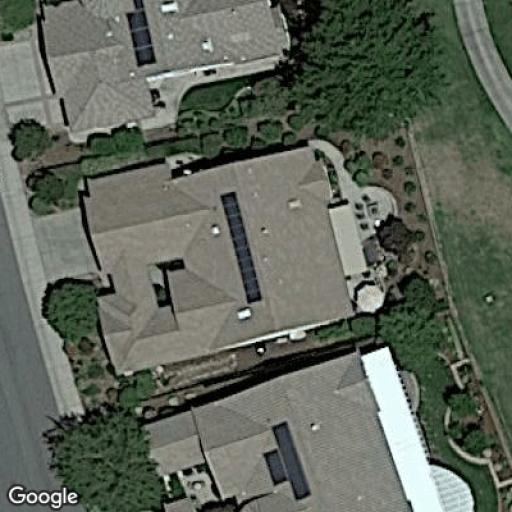solar-panel: (222, 190, 263, 306), (264, 418, 312, 500), (120, 0, 162, 71)
